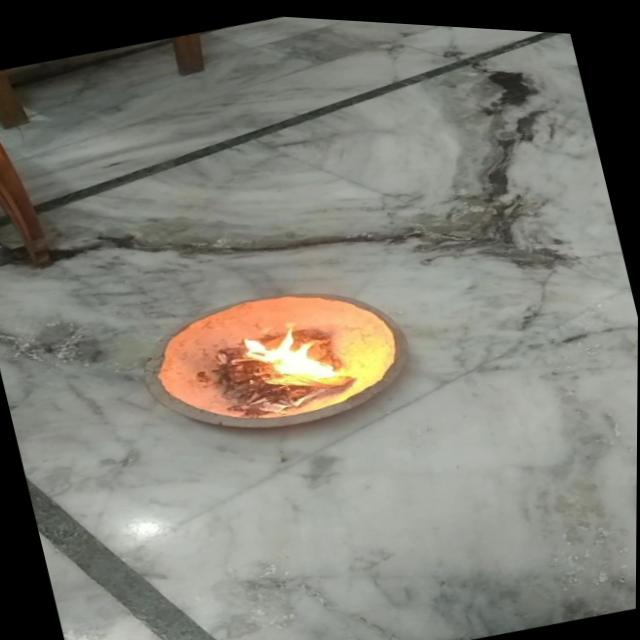fire: (227, 307, 348, 408)
